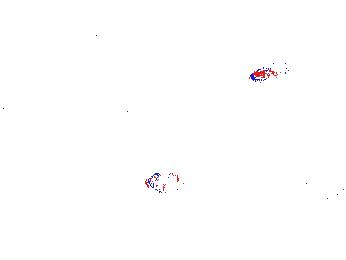X-ray fish: (145, 169, 191, 196), (298, 176, 312, 212)
glassfish: (318, 186, 346, 207)
red belly glassfish: (245, 64, 288, 83)
